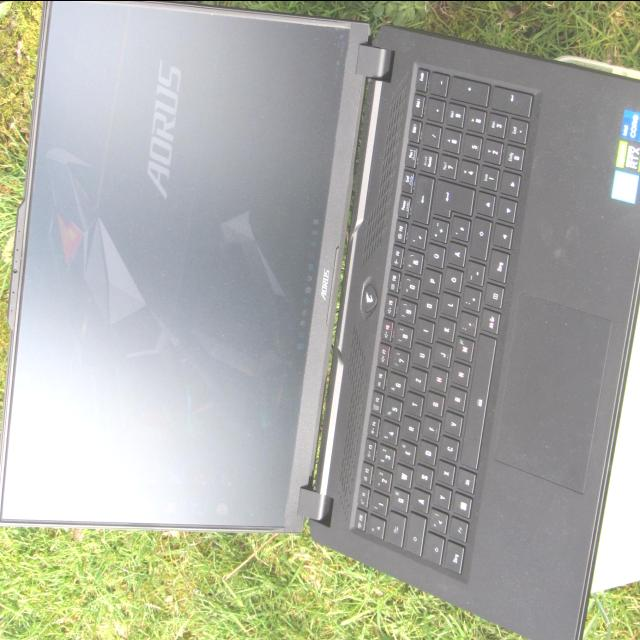0: (398, 275, 419, 300)
1: (368, 492, 387, 518)
2: (371, 467, 391, 493)
3: (374, 444, 394, 470)
4: (377, 421, 397, 446)
5: (381, 397, 401, 423)
6: (385, 373, 405, 398)
7: (388, 349, 408, 373)
8: (392, 324, 412, 350)
9: (394, 298, 416, 324)
a: (408, 489, 429, 515)
accent: (405, 225, 426, 250)
ae: (445, 241, 465, 269)
alt-left: (454, 467, 475, 495)
altgr-right: (478, 308, 500, 336)
b: (445, 386, 466, 414)
c: (438, 436, 458, 462)
caret: (365, 515, 384, 540)
comma: (456, 312, 476, 338)
d: (416, 440, 436, 466)
del: (410, 175, 432, 226)
e: (397, 439, 417, 465)
enter: (430, 181, 474, 217)
f: (420, 416, 440, 442)
g: (423, 392, 443, 418)
h: (427, 367, 447, 393)
hash: (449, 216, 470, 242)
i: (413, 318, 433, 344)
j: (430, 342, 451, 368)
k: (434, 317, 454, 343)
keyboard: (345, 59, 541, 586)
l: (438, 293, 458, 318)
less: (426, 508, 447, 536)
m: (452, 335, 473, 363)
minus: (464, 261, 484, 287)
n: (449, 362, 470, 388)
o: (417, 293, 437, 319)
oe: (442, 267, 462, 293)
p: (420, 268, 440, 294)
plus: (427, 218, 448, 244)
point: (460, 287, 480, 313)
q: (389, 486, 409, 514)
r: (399, 416, 419, 442)
s: (412, 465, 432, 491)
shift-left: (422, 530, 444, 567)
shift-lock: (403, 511, 425, 557)
shift-right: (468, 217, 490, 261)
space: (458, 333, 496, 471)
ss: (401, 250, 422, 275)
strg-left: (444, 540, 465, 574)
strg-right: (487, 249, 511, 283)
t: (402, 392, 422, 418)
tab: (384, 511, 406, 549)
u: (410, 343, 430, 369)
ue: (424, 243, 444, 269)
v: (441, 412, 461, 438)
w: (392, 464, 412, 490)
x: (434, 460, 454, 486)
y: (431, 484, 451, 511)
z: (406, 367, 426, 393)
